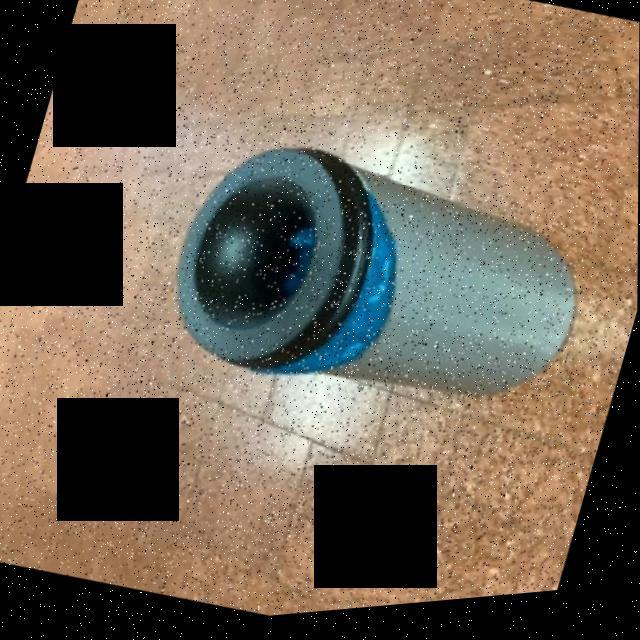bin: (104, 58, 631, 515)
